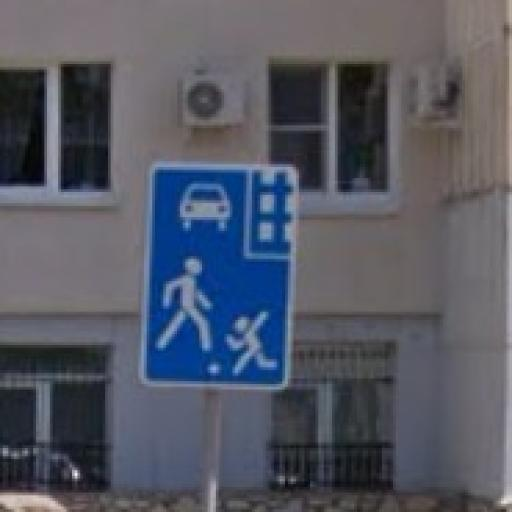traffic_sign: (139, 160, 303, 391)
